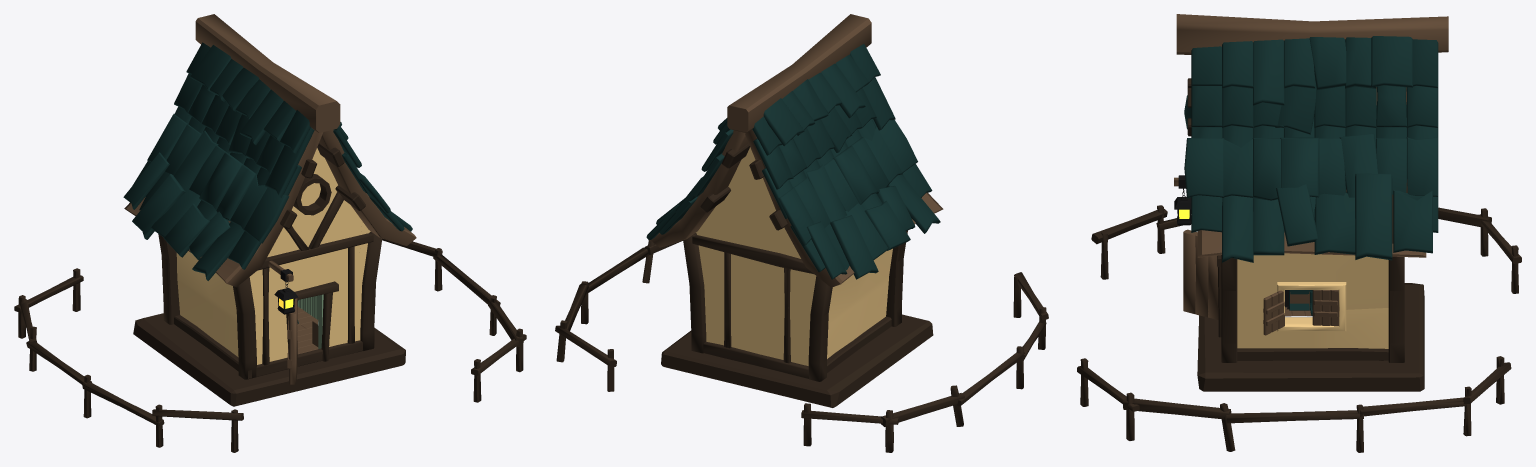
The model's file is HUT5.fbx.
3 renders of one model, left to right at view 1: azimuth 30°, elevation 25°; view 2: azimuth 150°, elevation 25°; view 3: azimuth 270°, elevation 25°, orthographic. The views are drawn at different scales.
Visible parts, largest first — view 1: Cabin_wall, Cabin_floor, Roof_stick, Cabin_in_the_Woods_:cube313, Cabin_in_the_Woods_:cube3132, Cabin_in_the_Woods_:cube321, Cabin_in_the_Woods_:cube32, Cabin_in_the_Woods_:cube3155111, Cabin_in_the_Woods_:cube315101, Cabin_in_the_Woods_:cube33, Cabin_in_the_Woods_:cube315141, Cabin_in_the_Woods_:cube3155311 (+40 smaller); view 2: Cabin_wall, Cabin_floor, Roof_stick, Cabin_in_the_Woods_:cube313, Cabin_in_the_Woods_:cube33, Cabin_in_the_Woods_:cube3, Cabin_in_the_Woods_:cube3155111, Cabin_in_the_Woods_:cube311215, Cabin_in_the_Woods_:cube3132, Cabin_in_the_Woods_:cube3112111, Cabin_in_the_Woods_:cube315331, Cabin_in_the_Woods_:cube321 (+35 smaller); view 3: Cabin_wall, Cabin_floor, Roof_stick, Cabin_in_the_Woods_:cube315642, Cabin_in_the_Woods_:cube31544, Cabin_in_the_Woods_:cube315132, Cabin_in_the_Woods_:cube31510, Cabin_in_the_Woods_:cube3156, Cabin_in_the_Woods_:cube31533, Cabin_in_the_Woods_:cube31514, Cabin_in_the_Woods_:cube3152, Cabin_in_the_Woods_:cube31121121 (+38 smaller).
Part boxes in pixels (bbox=[...]): Cabin_wall: bbox=[176, 148, 370, 364]; Cabin_floor: bbox=[133, 313, 405, 406]; Roof_stick: bbox=[195, 14, 340, 132]; Cabin_in_the_Woods_:cube313: bbox=[319, 130, 416, 245]; Cabin_in_the_Woods_:cube3132: bbox=[124, 130, 323, 287]; Cabin_in_the_Woods_:cube321: bbox=[233, 277, 256, 379]; Cabin_in_the_Woods_:cube32: bbox=[360, 231, 382, 350]; Cabin_in_the_Woods_:cube3155111: bbox=[132, 174, 185, 239]; Cabin_in_the_Woods_:cube315101: bbox=[244, 187, 289, 243]; Cabin_in_the_Woods_:cube33: bbox=[158, 234, 179, 324]; Cabin_in_the_Woods_:cube315141: bbox=[192, 222, 243, 280]; Cabin_in_the_Woods_:cube3155311: bbox=[164, 203, 209, 257]; Cabin_wall: bbox=[696, 147, 892, 365]; Cabin_floor: bbox=[661, 314, 933, 407]; Roof_stick: bbox=[727, 14, 871, 132]; Cabin_in_the_Woods_:cube313: bbox=[651, 130, 748, 247]; Cabin_in_the_Woods_:cube33: bbox=[808, 276, 832, 381]; Cabin_in_the_Woods_:cube3: bbox=[683, 233, 706, 353]; Cabin_in_the_Woods_:cube3155111: bbox=[830, 215, 878, 279]; Cabin_in_the_Woods_:cube311215: bbox=[692, 235, 813, 273]; Cabin_in_the_Woods_:cube3132: bbox=[745, 129, 943, 287]; Cabin_in_the_Woods_:cube3112111: bbox=[703, 341, 808, 378]; Cabin_in_the_Woods_:cube315331: bbox=[833, 145, 877, 204]; Cabin_in_the_Woods_:cube321: bbox=[886, 230, 907, 326]; Cabin_wall: bbox=[1237, 253, 1388, 348]; Cabin_floor: bbox=[1197, 283, 1424, 391]; Roof_stick: bbox=[1176, 14, 1448, 54]; Cabin_in_the_Woods_:cube315642: bbox=[1355, 173, 1392, 260]; Cabin_in_the_Woods_:cube31544: bbox=[1314, 192, 1355, 254]; Cabin_in_the_Woods_:cube315132: bbox=[1393, 190, 1432, 253]; Cabin_in_the_Woods_:cube31510: bbox=[1184, 138, 1224, 198]; Cabin_in_the_Woods_:cube3156: bbox=[1371, 36, 1412, 87]; Cabin_in_the_Woods_:cube31533: bbox=[1280, 137, 1319, 197]; Cabin_in_the_Woods_:cube31514: bbox=[1222, 195, 1253, 262]; Cabin_in_the_Woods_:cube3152: bbox=[1253, 39, 1284, 105]; Cabin_in_the_Woods_:cube31121121: bbox=[1237, 348, 1388, 360].
Bounding box in the file's own units: 183 × 128 × 157.
